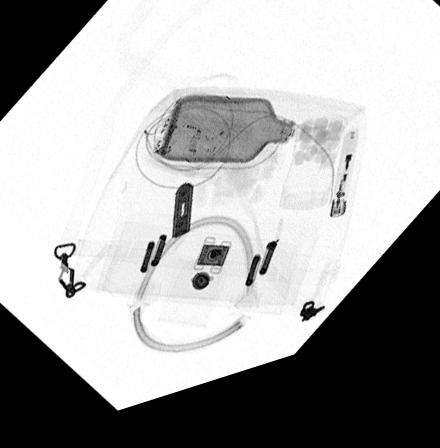Lighter: (328, 142, 357, 238)
